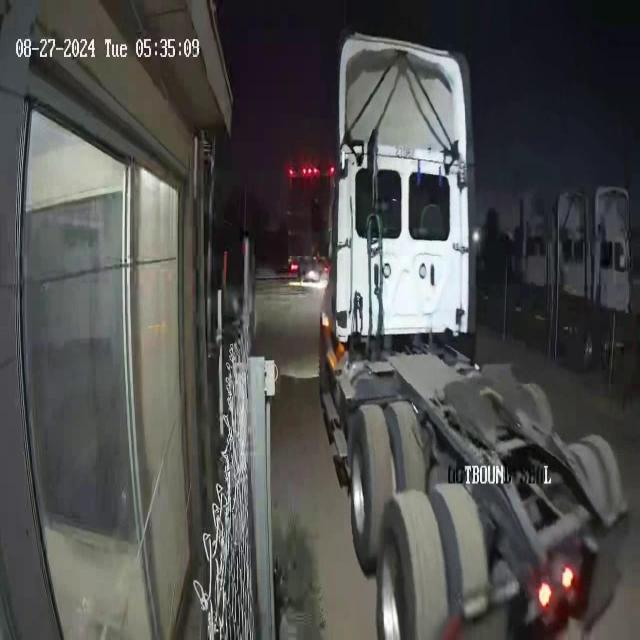TRUCK_OUT: (317, 30, 628, 638)
